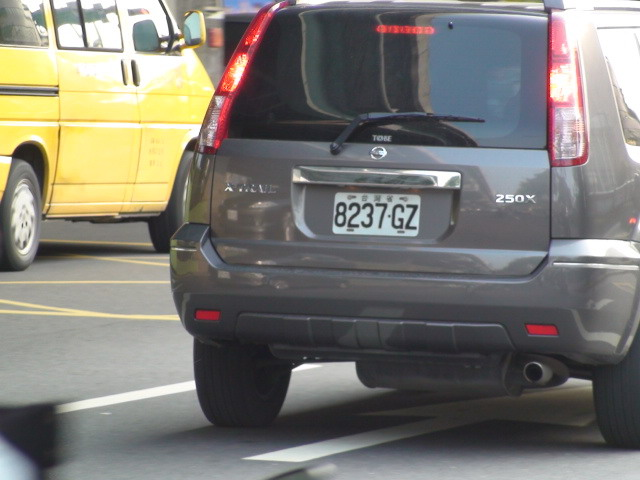plate: (331, 188, 422, 239)
